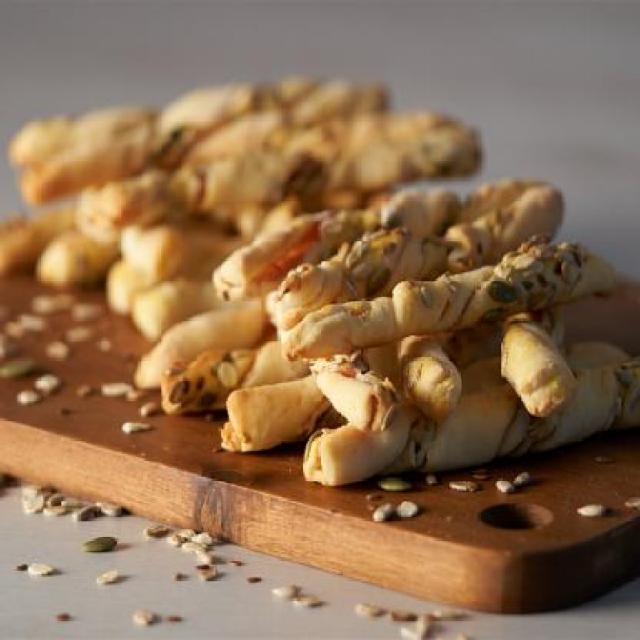Grissini: (16, 75, 622, 474)
